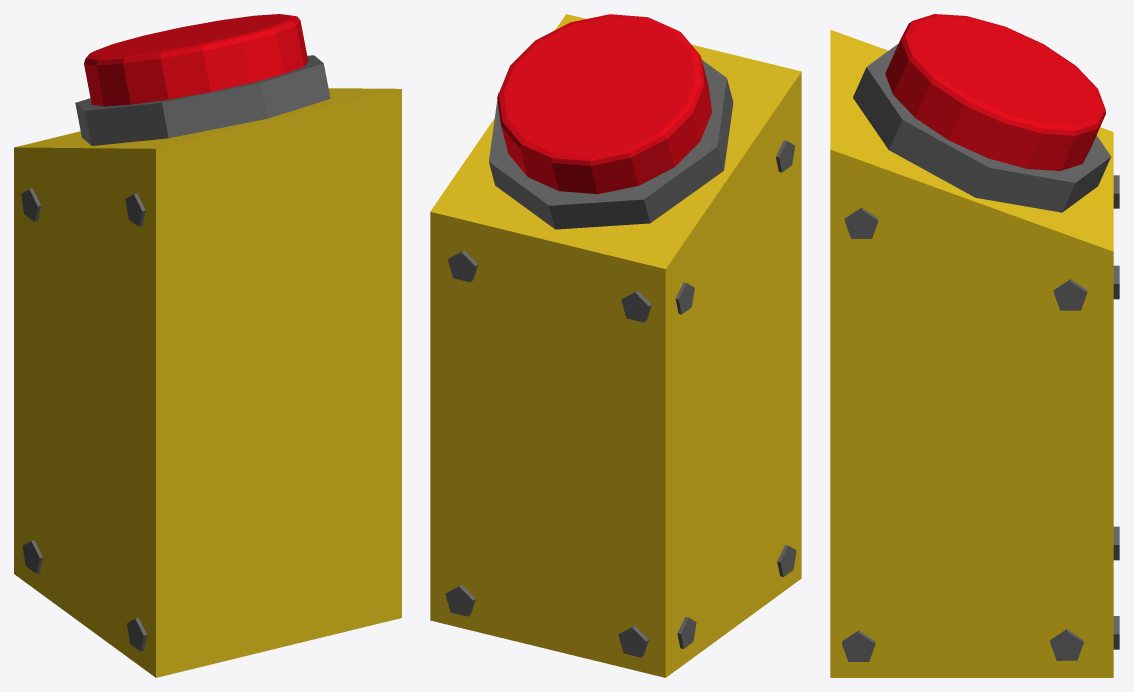
File: Boton.fbx
3 views of the same model, side by side, from view 1: azimuth 30°, elevation 25°; view 2: azimuth 150°, elevation 25°; view 3: azimuth 270°, elevation 25° (orthographic). The views are drawn at different scales.
Visible parts, largest first — view 1: Cube; view 2: Cube; view 3: Cube.
Boxes of the visible parts, x1,y1,x2,y2 form: Cube: [14, 14, 401, 677]; Cube: [430, 14, 801, 677]; Cube: [830, 14, 1119, 677].
Bounding box in the file's own units: 59.68 × 130 × 58.68.
